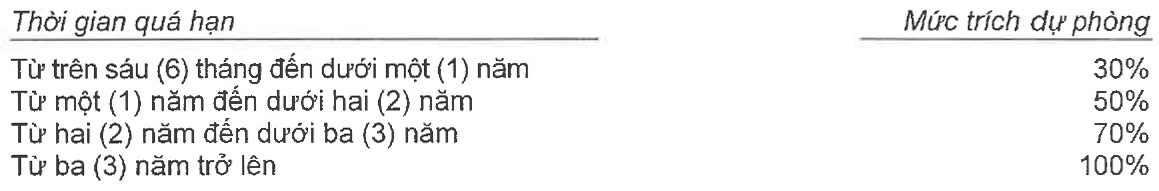table: (0, 0, 1159, 191)
table column: (0, 0, 815, 191), (815, 0, 1159, 191)
table row: (0, 147, 1159, 191), (0, 0, 1159, 42), (0, 42, 1159, 82), (0, 82, 1159, 115), (0, 115, 1159, 147)
